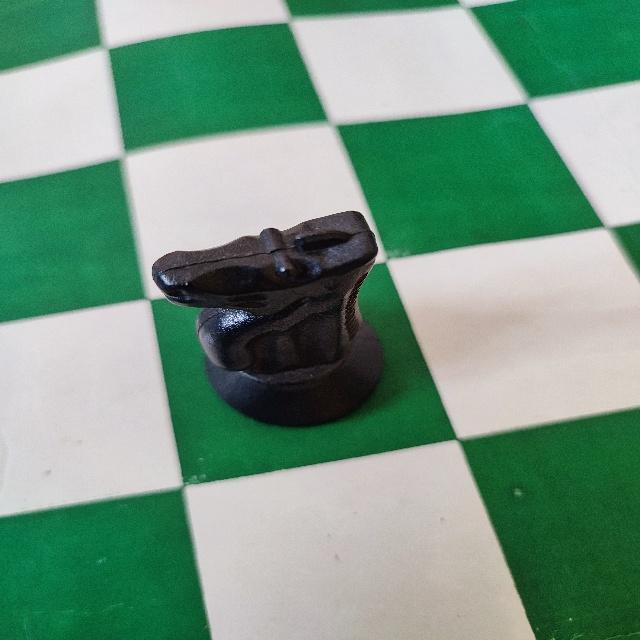Knight: (138, 204, 395, 432)
